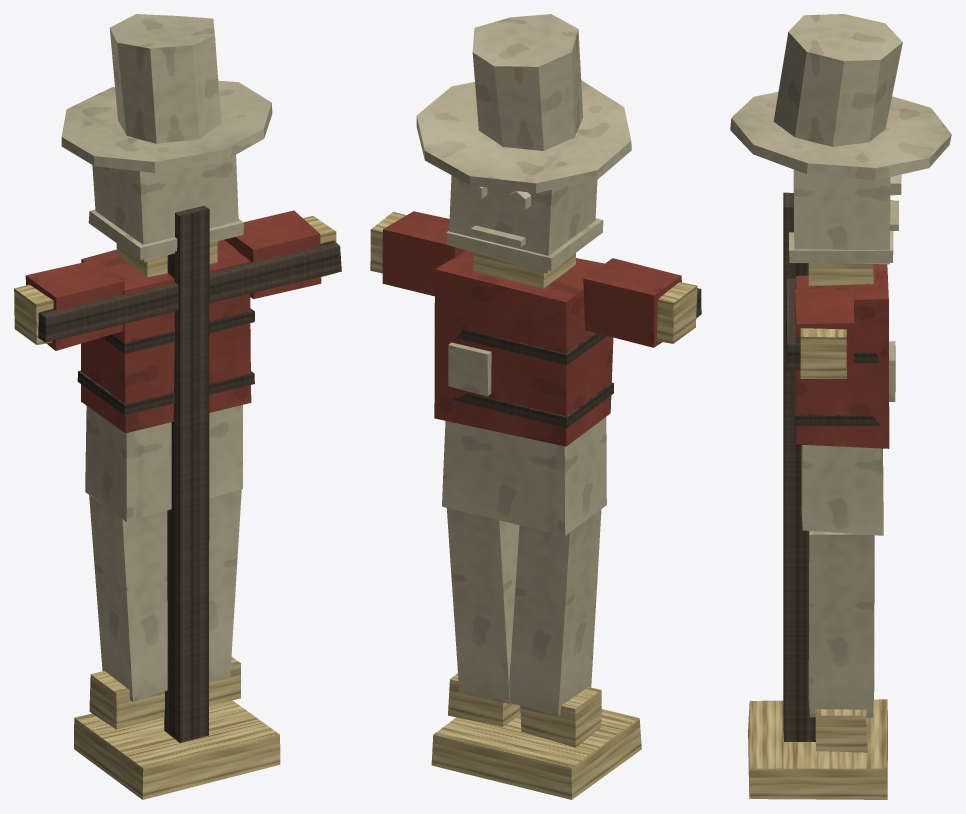
The model's file is scarecrow.glb.
3 views of the same model, side by side, from view 1: azimuth 30°, elevation 25°; view 2: azimuth 150°, elevation 25°; view 3: azimuth 270°, elevation 25° (orthographic).
Parts seen in each view (by area): view 1: Scarecrow, Head, ArmL, ArmR; view 2: Scarecrow, Head, ArmL, ArmR; view 3: Scarecrow, Head, ArmR.
Boxes of the visible parts, x1,y1,x2,y2 form: Scarecrow: (14, 205, 341, 799); Head: (61, 14, 272, 262); ArmL: (25, 259, 124, 350); ArmR: (224, 210, 321, 298); Scarecrow: (370, 212, 701, 799); Head: (416, 14, 631, 273); ArmL: (583, 258, 681, 347); ArmR: (382, 211, 466, 296); Scarecrow: (748, 192, 895, 799); Head: (730, 14, 951, 264); ArmR: (795, 287, 854, 377).
Bounding box in the file's own units: 0.8534 × 1.96 × 0.5373.
Materials: 4 (4 with a texture image).
